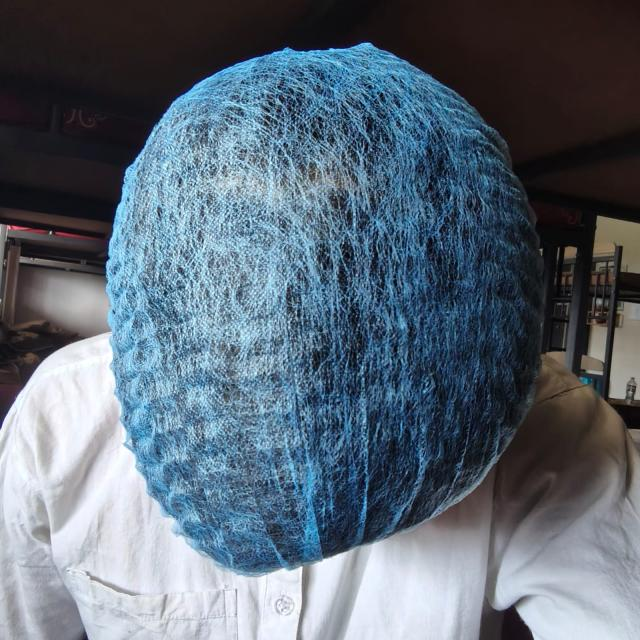hairnet-detection: (108, 44, 542, 574), (0, 0, 640, 228)
